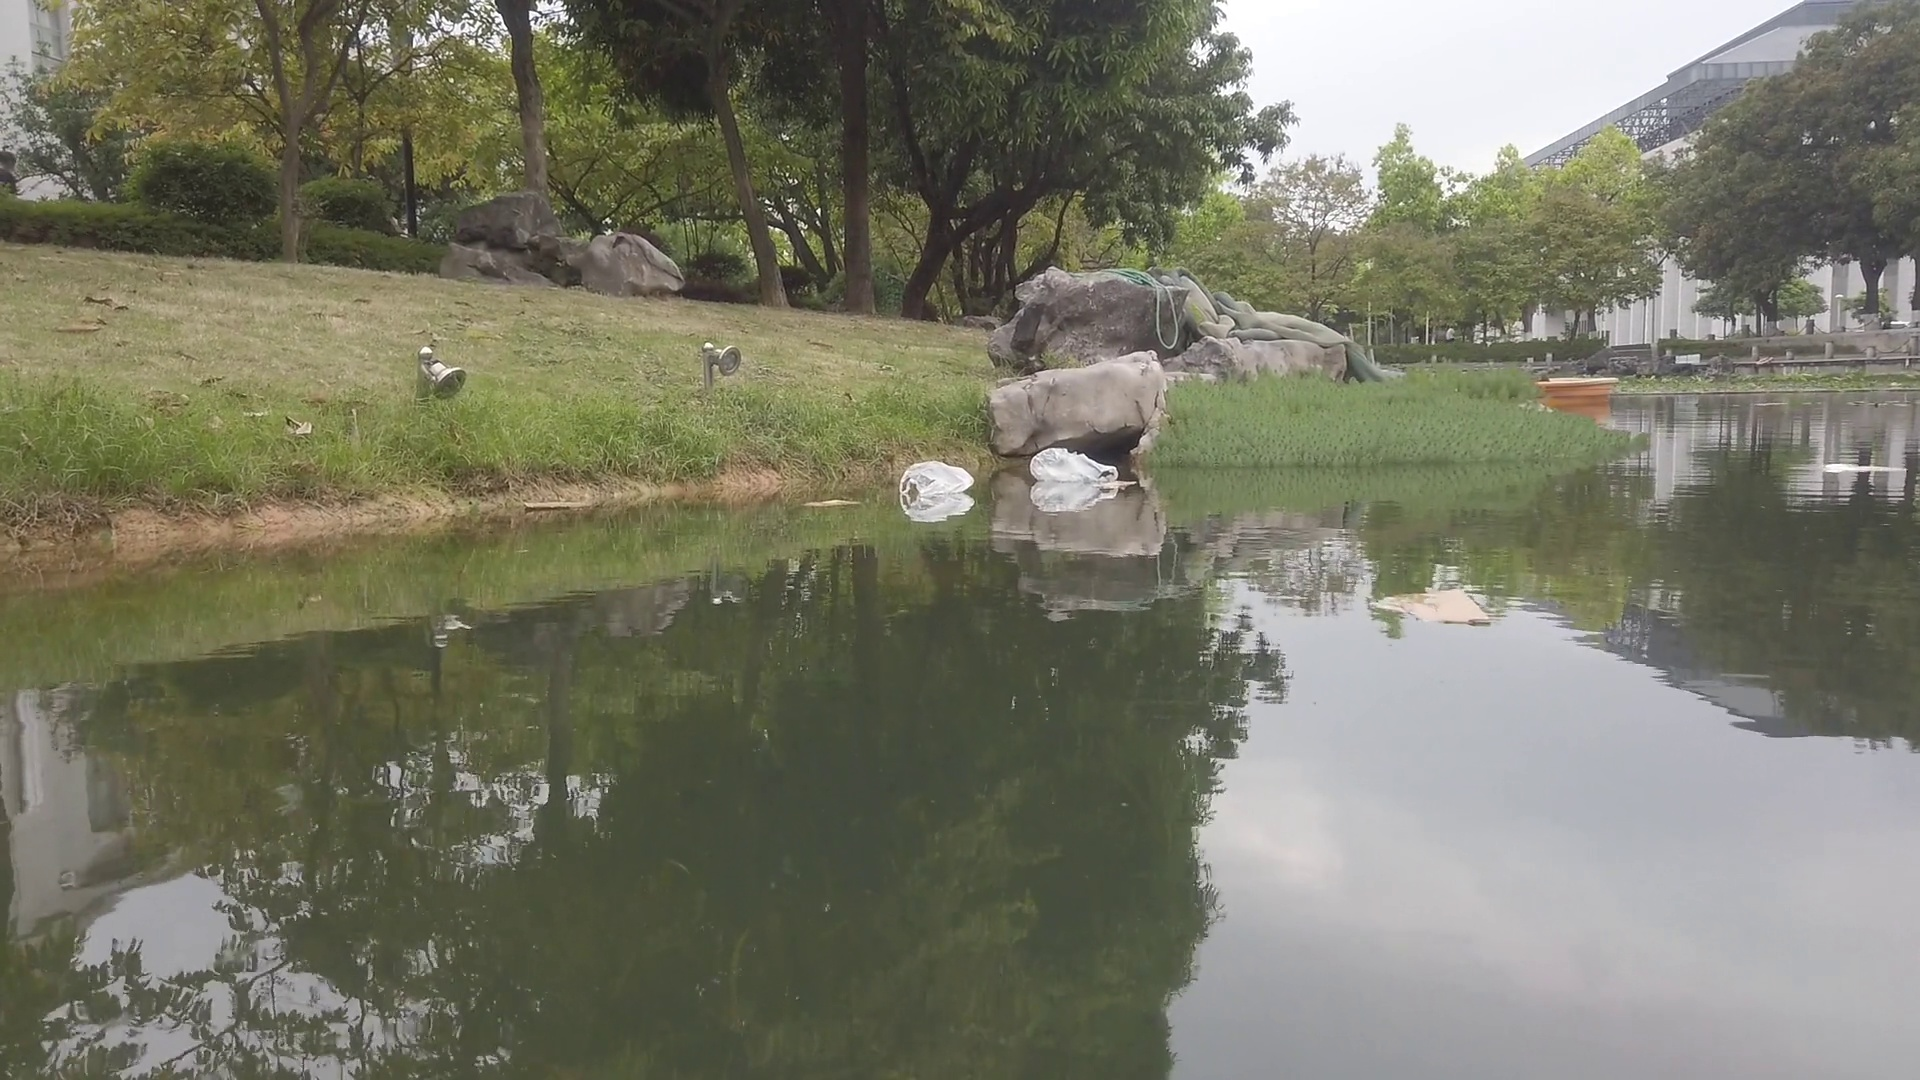paper: (1371, 582, 1495, 626), (1809, 458, 1913, 473), (518, 498, 591, 513), (1096, 477, 1138, 495), (804, 500, 868, 509)
plastic: (1029, 450, 1120, 483), (898, 460, 972, 497)
